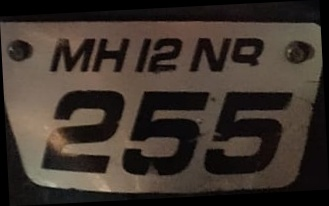character: (120, 88, 211, 178), (201, 90, 292, 177), (40, 87, 127, 176), (48, 37, 96, 73), (189, 36, 233, 72), (89, 36, 130, 73), (146, 37, 183, 72), (230, 33, 264, 68), (133, 35, 153, 74)
